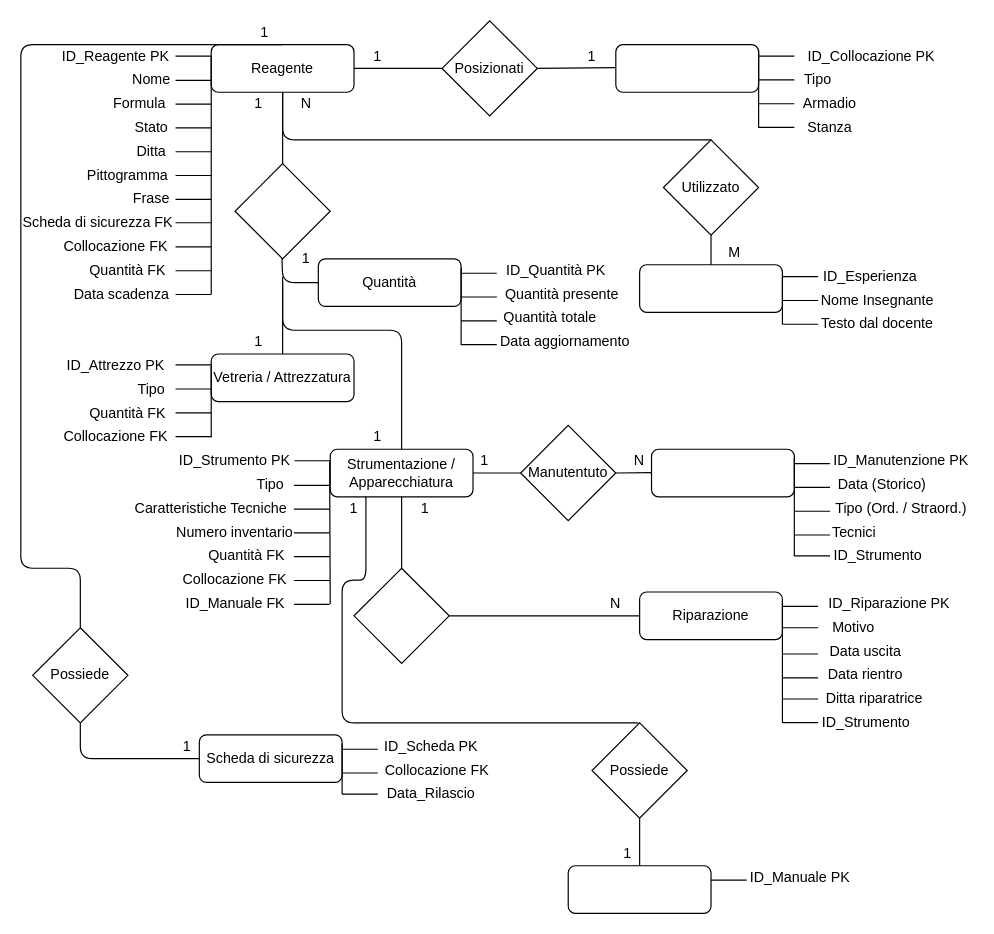
Some shapes in this 994 by 934 pixel diagram are drawn without their labels. The box of each missing label's shape, as (x1, y1, x2, y2) in pixels:
Collocazione: (615, 43, 759, 92)
Esperienza: (638, 264, 782, 312)
HA: (234, 162, 330, 259)
Manuale: (567, 865, 711, 913)
Manutenzione: (650, 448, 794, 497)
Riparato: (353, 567, 449, 663)
